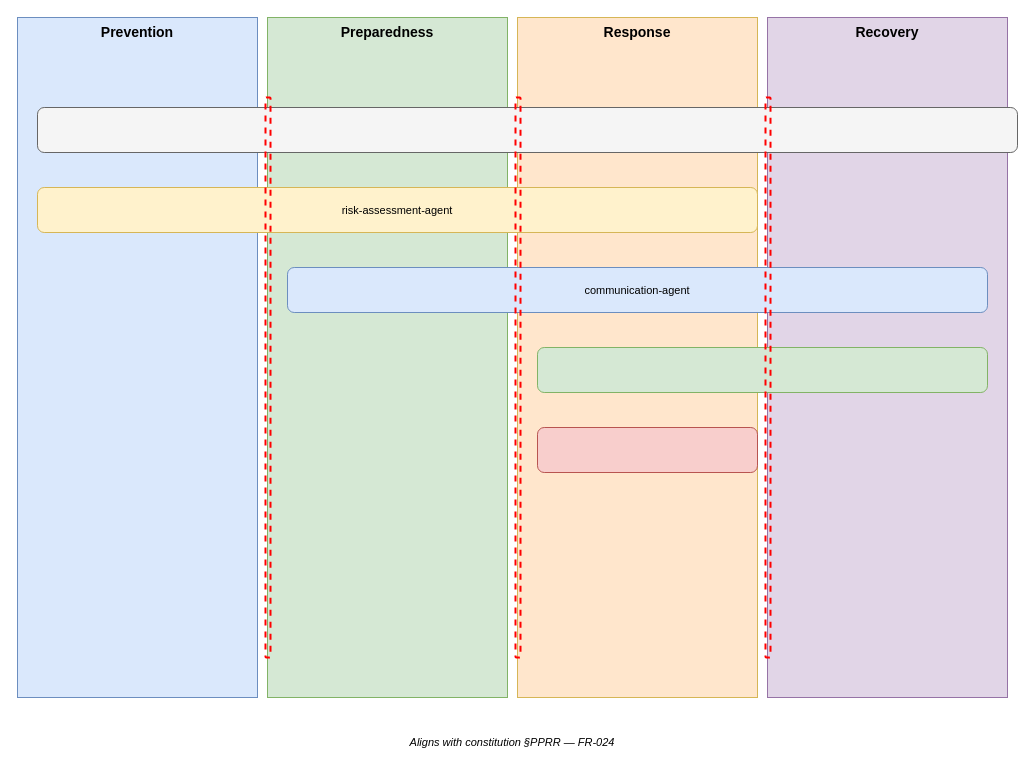
The diagram is 1035 pixels wide and 775 high, and some of its shapes have lost their labels. The shapes that lost their labels are listed below. From the top down, each one's centre as x and y in pixels, then its label:
the point at 527,129: monitoring-agent
the point at 762,369: resource-allocation-agent
the point at 647,449: evacuation-agent
